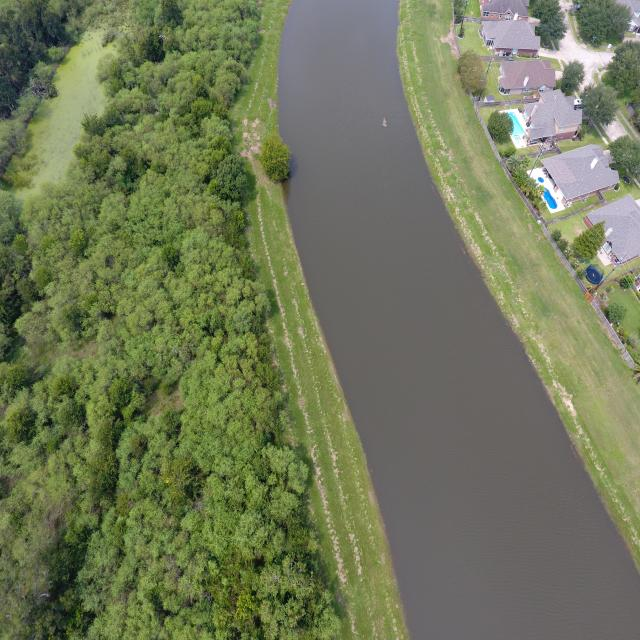fire: (278, 0, 640, 639)
